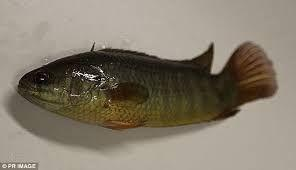Climbing Perch: (13, 40, 287, 135)
